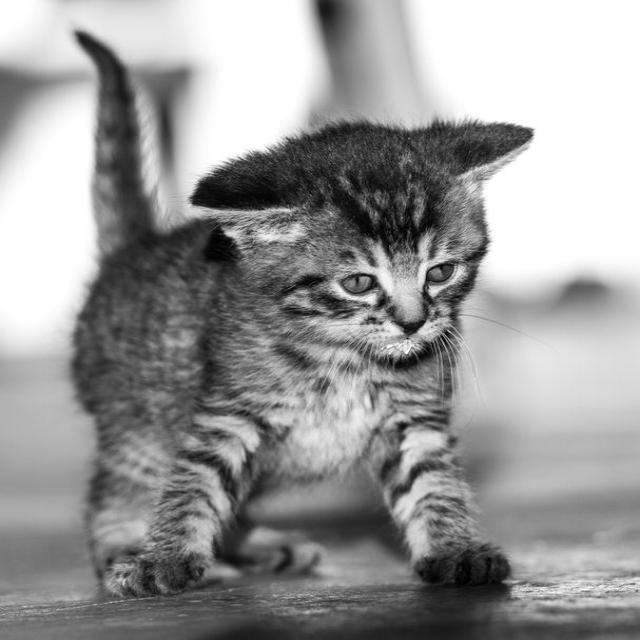cat: (86, 110, 489, 600)
